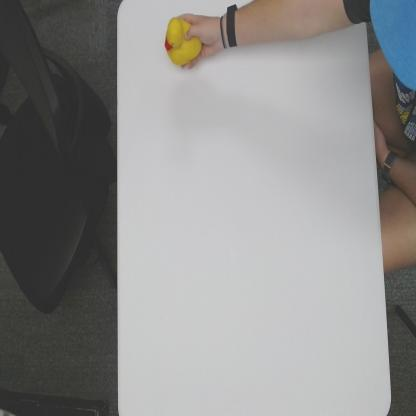Arm: (239, 0, 355, 52)
Duck: (165, 16, 202, 64)
Hand: (176, 10, 224, 68)
